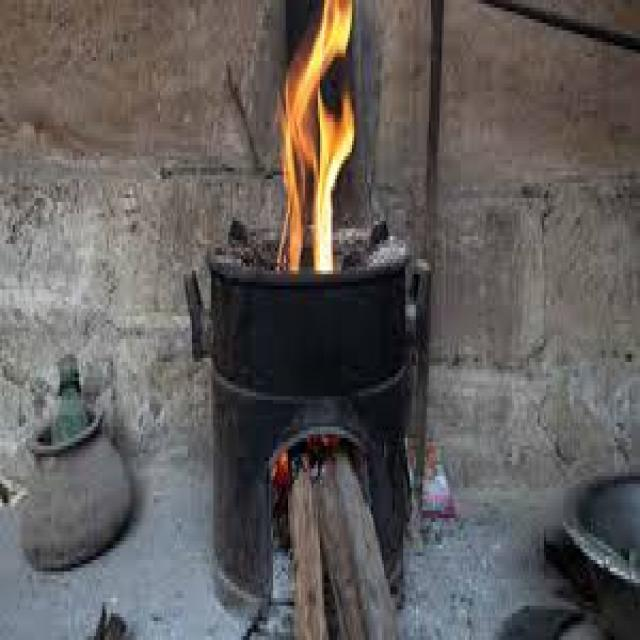fire: (274, 0, 354, 274)
